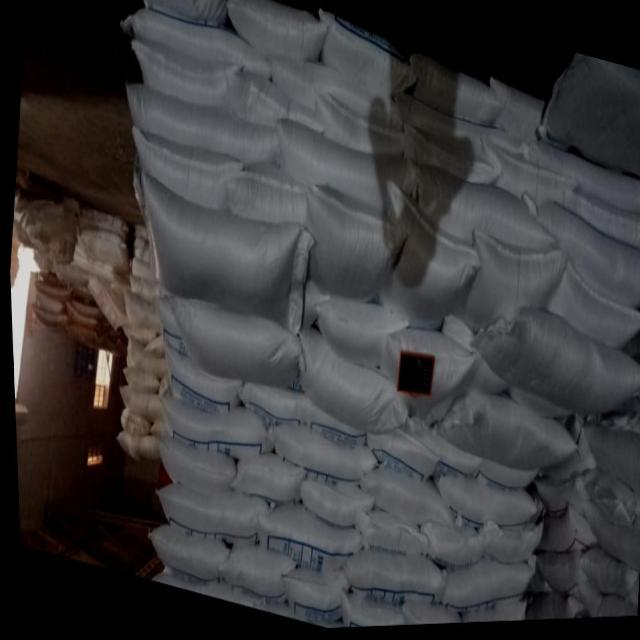gunny_bag: (137, 174, 313, 336), (466, 312, 640, 423), (378, 186, 478, 332), (537, 56, 640, 186), (274, 122, 414, 217), (125, 84, 280, 166), (302, 183, 403, 306), (525, 205, 640, 312), (167, 299, 299, 391), (407, 165, 553, 248), (294, 333, 407, 440), (426, 401, 572, 476), (458, 235, 562, 340), (264, 60, 403, 134), (539, 266, 640, 356), (131, 37, 241, 116), (130, 133, 239, 211), (519, 147, 640, 217), (318, 14, 415, 100), (378, 331, 473, 416), (155, 484, 267, 546), (250, 508, 358, 572), (266, 424, 373, 488), (157, 399, 264, 462), (409, 59, 505, 129), (480, 140, 574, 211), (310, 301, 403, 372), (355, 474, 457, 535), (225, 0, 328, 59), (340, 552, 443, 610), (431, 472, 532, 531), (314, 91, 403, 156), (161, 343, 239, 414), (402, 131, 498, 186), (574, 426, 640, 500), (152, 438, 231, 499), (144, 527, 225, 586), (402, 418, 479, 479), (437, 561, 530, 611), (215, 548, 289, 607), (564, 195, 640, 252), (225, 174, 304, 226), (576, 509, 638, 574), (487, 82, 544, 146), (364, 433, 434, 482), (147, 578, 254, 610), (296, 484, 371, 529), (227, 455, 300, 501), (298, 399, 364, 448), (277, 570, 340, 621), (334, 589, 412, 630), (575, 552, 634, 604), (352, 515, 423, 558), (235, 386, 301, 430), (535, 506, 593, 556), (477, 522, 538, 567), (530, 479, 583, 523), (531, 554, 580, 600), (571, 586, 633, 622), (142, 0, 226, 25), (579, 488, 623, 528), (121, 291, 158, 335), (521, 596, 579, 624), (455, 603, 522, 626), (124, 340, 162, 379), (397, 604, 456, 628), (112, 433, 155, 465), (118, 390, 156, 425), (121, 367, 156, 394), (126, 278, 160, 303), (118, 409, 146, 438), (624, 335, 640, 365), (130, 261, 145, 279)
